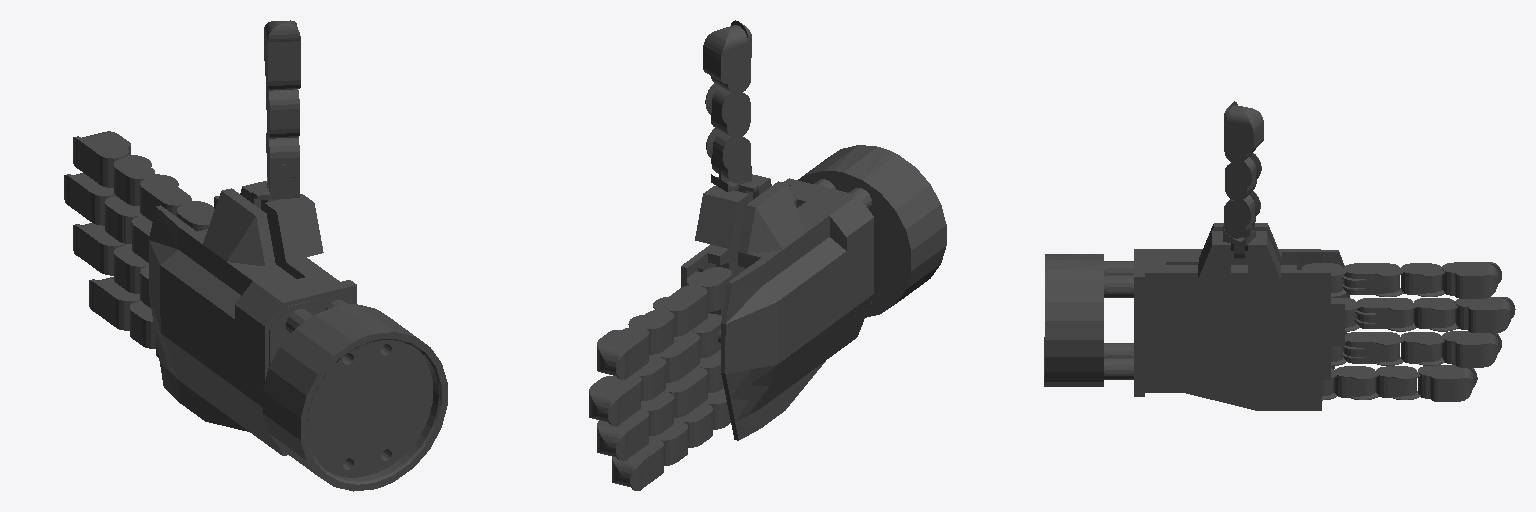
--- Render facts (derived) ---
The picture shows the robot from 3 angles, left to right: view 1: azimuth 30°, elevation 25°; view 2: azimuth 150°, elevation 25°; view 3: azimuth 270°, elevation 25°; orthographic projection.
Robot: ur5_qb — 47 links, 46 joints (40 revolute, 6 fixed); root link world; default pose: every joint at zero.
Visible links, largest first — view 1: qbhand_palm_link, qbhand_base_link, qbhand_thumb_distal_link, qbhand_thumb_knuckle_link, qbhand_index_distal_link, qbhand_little_distal_link, qbhand_ring_distal_link, qbhand_middle_distal_link, qbhand_thumb_proximal_link, qbhand_index_proximal_link, qbhand_index_middle_link, qbhand_middle_middle_link (+4 smaller); view 2: qbhand_palm_link, qbhand_base_link, qbhand_thumb_distal_link, qbhand_thumb_knuckle_link, qbhand_index_distal_link, qbhand_middle_distal_link, qbhand_ring_distal_link, qbhand_thumb_proximal_link, qbhand_little_distal_link, qbhand_index_proximal_link, qbhand_middle_proximal_link, qbhand_ring_proximal_link (+9 smaller); view 3: qbhand_palm_link, qbhand_base_link, qbhand_index_distal_link, qbhand_thumb_distal_link, qbhand_ring_distal_link, qbhand_little_distal_link, qbhand_middle_distal_link, qbhand_index_proximal_link, qbhand_middle_proximal_link, qbhand_ring_proximal_link, qbhand_thumb_knuckle_link, qbhand_little_proximal_link (+6 smaller).
Link boxes in pixels (x1,y1,x2,y2): qbhand_palm_link: (149,181,356,455); qbhand_base_link: (263,300,447,491); qbhand_thumb_distal_link: (264,20,300,90); qbhand_thumb_knuckle_link: (252,132,299,211); qbhand_index_distal_link: (73,131,130,187); qbhand_little_distal_link: (89,277,140,330); qbhand_ring_distal_link: (73,223,125,275); qbhand_middle_distal_link: (64,173,115,225); qbhand_thumb_proximal_link: (266,87,299,138); qbhand_index_proximal_link: (140,174,191,221); qbhand_index_middle_link: (114,155,154,205); qbhand_middle_middle_link: (105,196,139,243); qbhand_palm_link: (681,174,873,440); qbhand_base_link: (798,145,946,317); qbhand_thumb_distal_link: (703,20,751,94); qbhand_thumb_knuckle_link: (706,128,758,201); qbhand_index_distal_link: (597,327,648,379); qbhand_middle_distal_link: (589,374,641,426); qbhand_ring_distal_link: (597,409,648,460); qbhand_thumb_proximal_link: (705,83,750,138); qbhand_little_distal_link: (612,438,663,490); qbhand_index_proximal_link: (653,285,707,336); qbhand_middle_proximal_link: (649,332,699,382); qbhand_ring_proximal_link: (663,367,707,417); qbhand_palm_link: (1134,223,1349,410); qbhand_base_link: (1044,254,1133,386); qbhand_index_distal_link: (1442,262,1501,298); qbhand_thumb_distal_link: (1224,101,1263,163); qbhand_ring_distal_link: (1442,331,1501,367); qbhand_little_distal_link: (1418,365,1477,401); qbhand_middle_distal_link: (1455,297,1515,332); qbhand_index_proximal_link: (1342,263,1405,296); qbhand_middle_proximal_link: (1355,298,1418,331); qbhand_ring_proximal_link: (1342,332,1404,365); qbhand_thumb_knuckle_link: (1223,191,1260,258); qbhand_little_proximal_link: (1334,366,1378,399).
Bounding box of the posed robot: 0.0703 × 0.2488 × 0.1794 m (x, y, z).
21 mesh visuals loaded from 14 distinct referenced files (7 binary STL); not drawn: 7 (reference not matched to a file when rendering).

robot.urdf — ur5_qb:
<?xml version="1.0" ?>
<!-- =================================================================================== -->
<!-- |    This document was autogenerated by xacro from ur5_qb.xacro                   | -->
<!-- |    EDITING THIS FILE BY HAND IS NOT RECOMMENDED                                 | -->
<!-- =================================================================================== -->
<robot name="ur5_qb" xmlns:xacro="http://wiki.ros.org/xacro">
  <gazebo>
    <plugin filename="libgazebo_ros_control.so" name="ros_control">
      <!--robotNamespace>/</robotNamespace-->
      <!--robotSimType>gazebo_ros_control/DefaultRobotHWSim</robotSimType-->
    </plugin>
    <!--
    <plugin name="gazebo_ros_power_monitor_controller" filename="libgazebo_ros_power_monitor.so">
      <alwaysOn>true</alwaysOn>
      <updateRate>1.0</updateRate>
      <timeout>5</timeout>
      <powerStateTopic>power_state</powerStateTopic>
      <powerStateRate>10.0</powerStateRate>
      <fullChargeCapacity>87.78</fullChargeCapacity>     
      <dischargeRate>-474</dischargeRate>
      <chargeRate>525</chargeRate>
      <dischargeVoltage>15.52</dischargeVoltage>
      <chargeVoltage>16.41</chargeVoltage>
    </plugin>
-->
  </gazebo>
  <!-- measured from model -->
  <!--property name="shoulder_height" value="0.089159" /-->
  <!--property name="shoulder_offset" value="0.13585" /-->
  <!-- shoulder_offset - elbow_offset + wrist_1_length = 0.10915 -->
  <!--property name="upper_arm_length" value="0.42500" /-->
  <!--property name="elbow_offset" value="0.1197" /-->
  <!-- CAD measured -->
  <!--property name="forearm_length" value="0.39225" /-->
  <!--property name="wrist_1_length" value="0.093" /-->
  <!-- CAD measured -->
  <!--property name="wrist_2_length" value="0.09465" /-->
  <!-- In CAD this distance is 0.930, but in the spec it is 0.09465 -->
  <!--property name="wrist_3_length" value="0.0823" /-->
  <!-- manually measured -->
  <link name="base_link">
    <visual>
      <geometry>
        <mesh filename="package://ur_description/meshes/ur5/visual/base.dae"/>
      </geometry>
      <material name="LightGrey">
        <color rgba="0.7 0.7 0.7 1.0"/>
      </material>
    </visual>
    <collision>
      <geometry>
        <mesh filename="package://ur_description/meshes/ur5/collision/base.stl"/>
      </geometry>
    </collision>
    <inertial>
      <mass value="4.0"/>
      <origin rpy="0 0 0" xyz="0.0 0.0 0.0"/>
      <inertia ixx="0.00443333156" ixy="0.0" ixz="0.0" iyy="0.00443333156" iyz="0.0" izz="0.0072"/>
    </inertial>
  </link>
  <joint name="shoulder_pan_joint" type="revolute">
    <parent link="base_link"/>
    <child link="shoulder_link"/>
    <origin rpy="0.0 0.0 0.0" xyz="0.0 0.0 0.089159"/>
    <axis xyz="0 0 1"/>
    <limit effort="150.0" lower="-6.28318530718" upper="6.28318530718" velocity="3.15"/>
    <dynamics damping="0.0" friction="0.0"/>
  </joint>
  <link name="shoulder_link">
    <visual>
      <geometry>
        <mesh filename="package://ur_description/meshes/ur5/visual/shoulder.dae"/>
      </geometry>
      <material name="LightGrey">
        <color rgba="0.7 0.7 0.7 1.0"/>
      </material>
    </visual>
    <collision>
      <geometry>
        <mesh filename="package://ur_description/meshes/ur5/collision/shoulder.stl"/>
      </geometry>
    </collision>
    <inertial>
      <mass value="3.7"/>
      <origin rpy="0 0 0" xyz="0.0 0.0 0.0"/>
      <inertia ixx="0.010267495893" ixy="0.0" ixz="0.0" iyy="0.010267495893" iyz="0.0" izz="0.00666"/>
    </inertial>
  </link>
  <joint name="shoulder_lift_joint" type="revolute">
    <parent link="shoulder_link"/>
    <child link="upper_arm_link"/>
    <origin rpy="0.0 1.57079632679 0.0" xyz="0.0 0.13585 0.0"/>
    <axis xyz="0 1 0"/>
    <limit effort="150.0" lower="-6.28318530718" upper="6.28318530718" velocity="3.15"/>
    <dynamics damping="0.0" friction="0.0"/>
  </joint>
  <link name="upper_arm_link">
    <visual>
      <geometry>
        <mesh filename="package://ur_description/meshes/ur5/visual/upperarm.dae"/>
      </geometry>
      <material name="LightGrey">
        <color rgba="0.7 0.7 0.7 1.0"/>
      </material>
    </visual>
    <collision>
      <geometry>
        <mesh filename="package://ur_description/meshes/ur5/collision/upperarm.stl"/>
      </geometry>
    </collision>
    <inertial>
      <mass value="8.393"/>
      <origin rpy="0 0 0" xyz="0.0 0.0 0.28"/>
      <inertia ixx="0.22689067591" ixy="0.0" ixz="0.0" iyy="0.22689067591" iyz="0.0" izz="0.0151074"/>
    </inertial>
  </link>
  <joint name="elbow_joint" type="revolute">
    <parent link="upper_arm_link"/>
    <child link="forearm_link"/>
    <origin rpy="0.0 0.0 0.0" xyz="0.0 -0.1197 0.425"/>
    <axis xyz="0 1 0"/>
    <limit effort="150.0" lower="-3.14159265359" upper="3.14159265359" velocity="3.15"/>
    <dynamics damping="0.0" friction="0.0"/>
  </joint>
  <link name="forearm_link">
    <visual>
      <geometry>
        <mesh filename="package://ur_description/meshes/ur5/visual/forearm.dae"/>
      </geometry>
      <material name="LightGrey">
        <color rgba="0.7 0.7 0.7 1.0"/>
      </material>
    </visual>
    <collision>
      <geometry>
        <mesh filename="package://ur_description/meshes/ur5/collision/forearm.stl"/>
      </geometry>
    </collision>
    <inertial>
      <mass value="2.275"/>
      <origin rpy="0 0 0" xyz="0.0 0.0 0.196125"/>
      <inertia ixx="0.0312167910289" ixy="0.0" ixz="0.0" iyy="0.0312167910289" iyz="0.0" izz="0.004095"/>
    </inertial>
  </link>
  <joint name="wrist_1_joint" type="revolute">
    <parent link="forearm_link"/>
    <child link="wrist_1_link"/>
    <origin rpy="0.0 1.57079632679 0.0" xyz="0.0 0.0 0.39225"/>
    <axis xyz="0 1 0"/>
    <limit effort="28.0" lower="-6.28318530718" upper="6.28318530718" velocity="3.2"/>
    <dynamics damping="0.0" friction="0.0"/>
  </joint>
  <link name="wrist_1_link">
    <visual>
      <geometry>
        <mesh filename="package://ur_description/meshes/ur5/visual/wrist1.dae"/>
      </geometry>
      <material name="LightGrey">
        <color rgba="0.7 0.7 0.7 1.0"/>
      </material>
    </visual>
    <collision>
      <geometry>
        <mesh filename="package://ur_description/meshes/ur5/collision/wrist1.stl"/>
      </geometry>
    </collision>
    <inertial>
      <mass value="1.219"/>
      <origin rpy="0 0 0" xyz="0.0 0.093 0.0"/>
      <inertia ixx="0.00255989897604" ixy="0.0" ixz="0.0" iyy="0.00255989897604" iyz="0.0" izz="0.0021942"/>
    </inertial>
  </link>
  <joint name="wrist_2_joint" type="revolute">
    <parent link="wrist_1_link"/>
    <child link="wrist_2_link"/>
    <origin rpy="0.0 0.0 0.0" xyz="0.0 0.093 0.0"/>
    <axis xyz="0 0 1"/>
    <limit effort="28.0" lower="-6.28318530718" upper="6.28318530718" velocity="3.2"/>
    <dynamics damping="0.0" friction="0.0"/>
  </joint>
  <link name="wrist_2_link">
    <visual>
      <geometry>
        <mesh filename="package://ur_description/meshes/ur5/visual/wrist2.dae"/>
      </geometry>
      <material name="LightGrey">
        <color rgba="0.7 0.7 0.7 1.0"/>
      </material>
    </visual>
    <collision>
      <geometry>
        <mesh filename="package://ur_description/meshes/ur5/collision/wrist2.stl"/>
      </geometry>
    </collision>
    <inertial>
      <mass value="1.219"/>
      <origin rpy="0 0 0" xyz="0.0 0.0 0.09465"/>
      <inertia ixx="0.00255989897604" ixy="0.0" ixz="0.0" iyy="0.00255989897604" iyz="0.0" izz="0.0021942"/>
    </inertial>
  </link>
  <joint name="wrist_3_joint" type="revolute">
    <parent link="wrist_2_link"/>
    <child link="wrist_3_link"/>
    <origin rpy="0.0 0.0 0.0" xyz="0.0 0.0 0.09465"/>
    <axis xyz="0 1 0"/>
    <limit effort="28.0" lower="-6.28318530718" upper="6.28318530718" velocity="3.2"/>
    <dynamics damping="0.0" friction="0.0"/>
  </joint>
  <link name="wrist_3_link">
    <visual>
      <geometry>
        <mesh filename="package://ur_description/meshes/ur5/visual/wrist3.dae"/>
      </geometry>
      <material name="LightGrey">
        <color rgba="0.7 0.7 0.7 1.0"/>
      </material>
    </visual>
    <collision>
      <geometry>
        <mesh filename="package://ur_description/meshes/ur5/collision/wrist3.stl"/>
      </geometry>
    </collision>
    <inertial>
      <mass value="0.1879"/>
      <origin rpy="1.57079632679 0 0" xyz="0.0 0.06505 0.0"/>
      <inertia ixx="8.46958911216e-05" ixy="0.0" ixz="0.0" iyy="8.46958911216e-05" iyz="0.0" izz="0.0001321171875"/>
    </inertial>
  </link>
  <joint name="ee_fixed_joint" type="fixed">
    <parent link="wrist_3_link"/>
    <child link="ee_link"/>
    <origin rpy="0.0 0.0 1.57079632679" xyz="0.0 0.0823 0.0"/>
  </joint>
  <link name="ee_link">
    <collision>
      <geometry>
        <box size="0.01 0.01 0.01"/>
      </geometry>
      <origin rpy="0 0 0" xyz="-0.01 0 0"/>
    </collision>
  </link>
  <transmission name="shoulder_pan_trans">
    <type>transmission_interface/SimpleTransmission</type>
    <joint name="shoulder_pan_joint">
      <hardwareInterface>hardware_interface/PositionJointInterface</hardwareInterface>
    </joint>
    <actuator name="shoulder_pan_motor">
      <mechanicalReduction>1</mechanicalReduction>
    </actuator>
  </transmission>
  <transmission name="shoulder_lift_trans">
    <type>transmission_interface/SimpleTransmission</type>
    <joint name="shoulder_lift_joint">
      <hardwareInterface>hardware_interface/PositionJointInterface</hardwareInterface>
    </joint>
    <actuator name="shoulder_lift_motor">
      <mechanicalReduction>1</mechanicalReduction>
    </actuator>
  </transmission>
  <transmission name="elbow_trans">
    <type>transmission_interface/SimpleTransmission</type>
    <joint name="elbow_joint">
      <hardwareInterface>hardware_interface/PositionJointInterface</hardwareInterface>
    </joint>
    <actuator name="elbow_motor">
      <mechanicalReduction>1</mechanicalReduction>
    </actuator>
  </transmission>
  <transmission name="wrist_1_trans">
    <type>transmission_interface/SimpleTransmission</type>
    <joint name="wrist_1_joint">
      <hardwareInterface>hardware_interface/PositionJointInterface</hardwareInterface>
    </joint>
    <actuator name="wrist_1_motor">
      <mechanicalReduction>1</mechanicalReduction>
    </actuator>
  </transmission>
  <transmission name="wrist_2_trans">
    <type>transmission_interface/SimpleTransmission</type>
    <joint name="wrist_2_joint">
      <hardwareInterface>hardware_interface/PositionJointInterface</hardwareInterface>
    </joint>
    <actuator name="wrist_2_motor">
      <mechanicalReduction>1</mechanicalReduction>
    </actuator>
  </transmission>
  <transmission name="wrist_3_trans">
    <type>transmission_interface/SimpleTransmission</type>
    <joint name="wrist_3_joint">
      <hardwareInterface>hardware_interface/PositionJointInterface</hardwareInterface>
    </joint>
    <actuator name="wrist_3_motor">
      <mechanicalReduction>1</mechanicalReduction>
    </actuator>
  </transmission>
  <gazebo reference="shoulder_link">
    <selfCollide>true</selfCollide>
  </gazebo>
  <gazebo reference="upper_arm_link">
    <selfCollide>true</selfCollide>
  </gazebo>
  <gazebo reference="forearm_link">
    <selfCollide>true</selfCollide>
  </gazebo>
  <gazebo reference="wrist_1_link">
    <selfCollide>true</selfCollide>
  </gazebo>
  <gazebo reference="wrist_3_link">
    <selfCollide>true</selfCollide>
  </gazebo>
  <gazebo reference="wrist_2_link">
    <selfCollide>true</selfCollide>
  </gazebo>
  <gazebo reference="ee_link">
    <selfCollide>true</selfCollide>
  </gazebo>
  <!-- ROS base_link to UR 'Base' Coordinates transform -->
  <link name="base"/>
  <joint name="base_link-base_fixed_joint" type="fixed">
    <!-- NOTE: this rotation is only needed as long as base_link itself is
                 not corrected wrt the real robot (ie: rotated over 180
                 degrees)
      -->
    <origin rpy="0 0 -3.14159265359" xyz="0 0 0"/>
    <parent link="base_link"/>
    <child link="base"/>
  </joint>
  <!-- Frame coincident with all-zeros TCP on UR controller -->
  <link name="tool0"/>
  <joint name="wrist_3_link-tool0_fixed_joint" type="fixed">
    <origin rpy="-1.57079632679 0 0" xyz="0 0.0823 0"/>
    <parent link="wrist_3_link"/>
    <child link="tool0"/>
  </joint>
  <material name="qbhand/optional">
    <color rgba="0.0 0.5 0.8 1.0"/>
  </material>
  <material name="qbhand/base">
    <color rgba="0.35 0.35 0.35 1.0"/>
  </material>
  <material name="qbhand/palm">
    <color rgba="0.35 0.35 0.35 1.0"/>
  </material>
  <material name="qbhand/knuckle">
    <color rgba="0.35 0.35 0.35 1.0"/>
  </material>
  <material name="qbhand/proximal">
    <color rgba="0.35 0.35 0.35 1.0"/>
  </material>
  <material name="qbhand/middle">
    <color rgba="0.35 0.35 0.35 1.0"/>
  </material>
  <material name="qbhand/distal">
    <color rgba="0.35 0.35 0.35 1.0"/>
  </material>
  <material name="qbhand/default">
    <color rgba="0.35 0.35 0.35 1.0"/>
  </material>
  <link name="world"/>
  <joint name="qbhand_base_fixed_joint" type="fixed">
    <origin rpy="0 1.57 0" xyz="0 0 0"/>
    <parent link="ee_link"/>
    <child link="qbhand_base_link"/>
  </joint>
  <link name="qbhand_base_link">
    <inertial>
      <mass value="0.15"/>
      <origin xyz="0 0 0.0015"/>
      <inertia ixx="6e-05" ixy="0" ixz="0" iyy="6e-05" iyz="0" izz="9e-05"/>
    </inertial>
    <visual>
      <origin rpy="0 0 0" xyz="0 0 0"/>
      <geometry>
        <mesh filename="package://qb_hand_description/meshes/flange_iso_04.stl" scale="0.001 0.001 0.001"/>
      </geometry>
      <material name="qbhand/base"/>
    </visual>
    <collision>
      <origin rpy="0 0 0" xyz="0 0 0"/>
      <geometry>
        <mesh filename="package://qb_hand_description/meshes/flange_iso_04.stl" scale="0.001 0.001 0.001"/>
      </geometry>
    </collision>
  </link>
  <joint name="qbhand_palm_fixed_joint" type="fixed">
    <origin rpy="1.57 0 3.14" xyz="0.0045 0.0145 0.144"/>
    <parent link="qbhand_base_link"/>
    <child link="qbhand_palm_link"/>
  </joint>
  <link name="qbhand_palm_link">
    <inertial>
      <mass value="0.36"/>
      <origin xyz="0.0 0.02 0.05"/>
      <inertia ixx="0.00045" ixy="0.0" ixz="0.0" iyy="0.0006" iyz="0.0" izz="0.00025"/>
    </inertial>
    <visual>
      <origin rpy="0 0 0" xyz="0 0 0"/>
      <geometry>
        <mesh filename="package://qb_hand_description/meshes/palm_pinch_l.stl" scale="0.001 0.001 0.001"/>
      </geometry>
      <material name="qbhand/palm"/>
    </visual>
    <collision>
      <origin rpy="0 0 0" xyz="0 0 0"/>
      <geometry>
        <mesh filename="package://qb_hand_description/meshes/palm_pinch_l.stl" scale="0.001 0.001 0.001"/>
      </geometry>
    </collision>
  </link>
  <joint name="qbhand_synergy_joint" type="revolute">
    <origin rpy="0 0 0" xyz="0 0 0"/>
    <parent link="qbhand_palm_link"/>
    <child link="qbhand_tendon_virtual_link"/>
    <axis xyz="0 0 1"/>
    <dynamics damping="0.0" friction="0.0"/>
    <limit effort="100" lower="0.0" upper="1.0" velocity="100"/>
  </joint>
  <link name="qbhand_tendon_virtual_link">
    <inertial>
      <origin rpy="0 0 0" xyz="0 0 0"/>
      <mass value="0.01"/>
      <inertia ixx="1e-08" ixy="0.0" ixz="0.0" iyy="1e-08" iyz="0.0" izz="1e-08"/>
    </inertial>
  </link>
  <joint name="qbhand_thumb_knuckle_joint" type="revolute">
    <origin rpy="1.57 3.14 0" xyz="-0.0435 -0.0435 -0.002"/>
    <parent link="qbhand_palm_link"/>
    <child link="qbhand_thumb_knuckle_link"/>
    <axis xyz="0 0 -1"/>
    <dynamics damping="0.0" friction="0.0"/>
    <limit effort="100" lower="0.0" upper="1.571" velocity="100"/>
    <mimic joint="qbhand_synergy_joint" multiplier="2.542"/>
  </joint>
  <link name="qbhand_thumb_knuckle_link">
    <inertial>
      <mass value="0.01"/>
      <origin xyz="0 0 0"/>
      <inertia ixx="1e-06" ixy="0.0" ixz="0.0" iyy="1e-06" iyz="0.0" izz="1e-06"/>
    </inertial>
    <visual>
      <origin rpy="0 0 0" xyz="0 0 0"/>
      <geometry>
        <mesh filename="package://qb_hand_description/meshes/ph_thumb_l.stl" scale="0.001 0.001 0.001"/>
      </geometry>
      <material name="qbhand/knuckle"/>
    </visual>
    <collision>
      <origin rpy="0 0 0" xyz="0 0 0"/>
      <geometry>
        <mesh filename="package://qb_hand_description/meshes/ph_thumb_l.stl" scale="0.001 0.001 0.001"/>
      </geometry>
    </collision>
  </link>
  <joint name="qbhand_thumb_proximal_joint" type="revolute">
    <origin rpy="1.15 0.0 0.0" xyz="0.0255 -0.004 0.0025"/>
    <parent link="qbhand_thumb_knuckle_link"/>
    <child link="qbhand_thumb_proximal_virtual_link"/>
    <axis xyz="0 0 -1"/>
    <dynamics damping="0.0" friction="0.0"/>
    <limit effort="100" lower="0.0" upper="0.785" velocity="100"/>
    <mimic joint="qbhand_synergy_joint" multiplier="0.785"/>
  </joint>
  <link name="qbhand_thumb_proximal_virtual_link">
    <inertial>
      <origin rpy="0 0 0" xyz="0 0 0"/>
      <mass value="0.01"/>
      <inertia ixx="1e-08" ixy="0.0" ixz="0.0" iyy="1e-08" iyz="0.0" izz="1e-08"/>
    </inertial>
  </link>
  <joint name="qbhand_thumb_proximal_virtual_joint" type="revolute">
    <origin rpy="0 0 0" xyz="0.013 0 0"/>
    <parent link="qbhand_thumb_proximal_virtual_link"/>
    <child link="qbhand_thumb_proximal_link"/>
    <axis xyz="0 0 -1"/>
    <dynamics damping="0.0" friction="0.0"/>
    <limit effort="100" lower="0.0" upper="0.785" velocity="100"/>
    <mimic joint="qbhand_thumb_proximal_joint" multiplier="1.0"/>
  </joint>
  <link name="qbhand_thumb_proximal_link">
    <inertial>
      <mass value="0.01"/>
      <origin xyz="0 0 0"/>
      <inertia ixx="1e-06" ixy="0.0" ixz="0.0" iyy="1e-06" iyz="0.0" izz="1e-06"/>
    </inertial>
    <visual>
      <origin rpy="0 0 0" xyz="0 0 0"/>
      <geometry>
        <mesh filename="package://qb_hand_description/meshes/ph_small.stl" scale="0.001 0.001 0.001"/>
      </geometry>
      <material name="qbhand/proximal"/>
    </visual>
    <collision>
      <origin rpy="0 0 0" xyz="0 0 0"/>
      <geometry>
        <mesh filename="package://qb_hand_description/meshes/ph_small.stl" scale="0.001 0.001 0.001"/>
      </geometry>
    </collision>
  </link>
  <joint name="qbhand_thumb_distal_joint" type="revolute">
    <origin rpy="0 0 0" xyz="0.009 0 0"/>
    <parent link="qbhand_thumb_proximal_link"/>
    <child link="qbhand_thumb_distal_virtual_link"/>
    <axis xyz="0 0 -1"/>
    <dynamics damping="0.0" friction="0.0"/>
    <limit effort="100" lower="0.0" upper="0.785" velocity="100"/>
    <mimic joint="qbhand_synergy_joint" multiplier="0.785"/>
  </joint>
  <link name="qbhand_thumb_distal_virtual_link">
    <inertial>
      <origin rpy="0 0 0" xyz="0 0 0"/>
      <mass value="0.01"/>
      <inertia ixx="1e-08" ixy="0.0" ixz="0.0" iyy="1e-08" iyz="0.0" izz="1e-08"/>
    </inertial>
  </link>
  <joint name="qbhand_thumb_distal_virtual_joint" type="revolute">
    <origin rpy="0 0 0" xyz="0.013 0 0"/>
    <parent link="qbhand_thumb_distal_virtual_link"/>
    <child link="qbhand_thumb_distal_link"/>
    <axis xyz="0 0 -1"/>
    <dynamics damping="0.0" friction="0.0"/>
    <limit effort="100" lower="0.0" upper="0.785" velocity="100"/>
    <mimic joint="qbhand_thumb_distal_joint" multiplier="1.0"/>
  </joint>
  <link name="qbhand_thumb_distal_link">
    <inertial>
      <mass value="0.01"/>
      <origin xyz="0 0 0"/>
      <inertia ixx="1e-06" ixy="0.0" ixz="0.0" iyy="1e-06" iyz="0.0" izz="1e-06"/>
    </inertial>
    <visual>
      <origin rpy="0 0 0" xyz="0 0 0"/>
      <geometry>
        <mesh filename="package://qb_hand_description/meshes/ph_distal.stl" scale="0.001 0.001 0.001"/>
      </geometry>
      <material name="qbhand/distal"/>
    </visual>
    <collision>
      <origin rpy="0 0 0" xyz="0 0 0"/>
      <geometry>
        <mesh filename="package://qb_hand_description/meshes/ph_distal.stl" scale="0.001 0.001 0.001"/>
      </geometry>
    </collision>
  </link>
  <joint name="qbhand_index_knuckle_joint" type="revolute">
    <origin rpy="0 3.14 0" xyz="-0.02 -0.007 -0.014"/>
    <parent link="qbhand_palm_link"/>
    <child link="qbhand_index_knuckle_link"/>
    <axis xyz="0 0 -1"/>
    <dynamics damping="0.0" friction="0.0"/>
    <limit effort="100" lower="-0.524" upper="0.524" velocity="100"/>
    <mimic joint="qbhand_synergy_joint" multiplier="0.2"/>
  </joint>
  <link name="qbhand_index_knuckle_link">
    <inertial>
      <mass value="0.01"/>
      <origin xyz="0 0 0"/>
      <inertia ixx="1e-06" ixy="0.0" ixz="0.0" iyy="1e-06" iyz="0.0" izz="1e-06"/>
    </inertial>
    <visual>
      <origin rpy="0 0 0" xyz="0 0 0"/>
      <geometry>
        <mesh filename="package://qb_hand_description/meshes/ph_knuckle.stl" scale="0.001 0.001 0.001"/>
      </geometry>
      <material name="qbhand/knuckle"/>
    </visual>
    <collision>
      <origin rpy="0 0 0" xyz="0 0 0"/>
      <geometry>
        <mesh filename="package://qb_hand_description/meshes/ph_knuckle.stl" scale="0.001 0.001 0.001"/>
      </geometry>
    </collision>
  </link>
  <joint name="qbhand_index_proximal_joint" type="revolute">
    <origin rpy="1.57 0 1.57" xyz="0 0.009 0"/>
    <parent link="qbhand_index_knuckle_link"/>
    <child link="qbhand_index_proximal_virtual_link"/>
    <axis xyz="0 0 -1"/>
    <dynamics damping="0.0" friction="0.0"/>
    <limit effort="100" lower="0.0" upper="0.785" velocity="100"/>
    <mimic joint="qbhand_synergy_joint" multiplier="0.785"/>
  </joint>
  <link name="qbhand_index_proximal_virtual_link">
    <inertial>
      <origin rpy="0 0 0" xyz="0 0 0"/>
      <mass value="0.01"/>
      <inertia ixx="1e-08" ixy="0.0" ixz="0.0" iyy="1e-08" iyz="0.0" izz="1e-08"/>
    </inertial>
  </link>
  <joint name="qbhand_index_proximal_virtual_joint" type="revolute">
    <origin rpy="0 0 0" xyz="0.013 0 0"/>
    <parent link="qbhand_index_proximal_virtual_link"/>
    <child link="qbhand_index_proximal_link"/>
    <axis xyz="0 0 -1"/>
    <dynamics damping="0.0" friction="0.0"/>
    <limit effort="100" lower="0.0" upper="0.785" velocity="100"/>
    <mimic joint="qbhand_index_proximal_joint" multiplier="1.0"/>
  </joint>
  <link name="qbhand_index_proximal_link">
    <inertial>
      <mass value="0.01"/>
      <origin xyz="0 0 0"/>
      <inertia ixx="1e-06" ixy="0.0" ixz="0.0" iyy="1e-06" iyz="0.0" izz="1e-06"/>
    </inertial>
    <visual>
      <origin rpy="0 0 0" xyz="0 0 0"/>
      <geometry>
        <mesh filename="package://qb_hand_description/meshes/ph_medium.stl" scale="0.001 0.001 0.001"/>
      </geometry>
      <material name="qbhand/proximal"/>
    </visual>
    <collision>
      <origin rpy="0 0 0" xyz="0 0 0"/>
      <geometry>
        <mesh filename="package://qb_hand_description/meshes/ph_medium.stl" scale="0.001 0.001 0.001"/>
      </geometry>
    </collision>
  </link>
  <joint name="qbhand_index_middle_joint" type="revolute">
    <origin rpy="0 0 0" xyz="0.017 0 0"/>
    <parent link="qbhand_index_proximal_link"/>
    <child link="qbhand_index_middle_virtual_link"/>
    <axis xyz="0 0 -1"/>
    <dynamics damping="0.0" friction="0.0"/>
    <limit effort="100" lower="0.0" upper="0.785" velocity="100"/>
    <mimic joint="qbhand_synergy_joint" multiplier="0.785"/>
  </joint>
  <link name="qbhand_index_middle_virtual_link">
    <inertial>
      <origin rpy="0 0 0" xyz="0 0 0"/>
      <mass value="0.01"/>
      <inertia ixx="1e-08" ixy="0.0" ixz="0.0" iyy="1e-08" iyz="0.0" izz="1e-08"/>
    </inertial>
  </link>
  <joint name="qbhand_index_middle_virtual_joint" type="revolute">
    <origin rpy="0 0 0" xyz="0.013 0 0"/>
    <parent link="qbhand_index_middle_virtual_link"/>
    <child link="qbhand_index_middle_link"/>
    <axis xyz="0 0 -1"/>
    <dynamics damping="0.0" friction="0.0"/>
    <limit effort="100" lower="0.0" upper="0.785" velocity="100"/>
    <mimic joint="qbhand_index_middle_joint" multiplier="1.0"/>
  </joint>
  <link name="qbhand_index_middle_link">
    <inertial>
      <mass value="0.01"/>
      <origin xyz="0 0 0"/>
      <inertia ixx="1e-06" ixy="0.0" ixz="0.0" iyy="1e-06" iyz="0.0" izz="1e-06"/>
    </inertial>
    <visual>
      <origin rpy="0 0 0" xyz="0 0 0"/>
      <geometry>
        <mesh filename="package://qb_hand_description/meshes/ph_small.stl" scale="0.001 0.001 0.001"/>
      </geometry>
      <material name="qbhand/middle"/>
    </visual>
    <collision>
      <origin rpy="0 0 0" xyz="0 0 0"/>
      <geometry>
        <mesh filename="package://qb_hand_description/meshes/ph_small.stl" scale="0.001 0.001 0.001"/>
      </geometry>
    </collision>
  </link>
  <joint name="qbhand_index_distal_joint" type="revolute">
    <origin rpy="0 0 0" xyz="0.009 0 0"/>
    <parent link="qbhand_index_middle_link"/>
    <child link="qbhand_index_distal_virtual_link"/>
    <axis xyz="0 0 -1"/>
    <dynamics damping="0.0" friction="0.0"/>
    <limit effort="100" lower="0.0" upper="0.785" velocity="100"/>
    <mimic joint="qbhand_synergy_joint" multiplier="0.785"/>
  </joint>
  <link name="qbhand_index_distal_virtual_link">
    <inertial>
      <origin rpy="0 0 0" xyz="0 0 0"/>
      <mass value="0.01"/>
      <inertia ixx="1e-08" ixy="0.0" ixz="0.0" iyy="1e-08" iyz="0.0" izz="1e-08"/>
    </inertial>
  </link>
  <joint name="qbhand_index_distal_virtual_joint" type="revolute">
    <origin rpy="0 0 0" xyz="0.013 0 0"/>
    <parent link="qbhand_index_distal_virtual_link"/>
    <child link="qbhand_index_distal_link"/>
    <axis xyz="0 0 -1"/>
    <dynamics damping="0.0" friction="0.0"/>
    <limit effort="100" lower="0.0" upper="0.785" velocity="100"/>
    <mimic joint="qbhand_index_distal_joint" multiplier="1.0"/>
  </joint>
  <link name="qbhand_index_distal_link">
    <inertial>
      <mass value="0.01"/>
      <origin xyz="0 0 0"/>
      <inertia ixx="1e-06" ixy="0.0" ixz="0.0" iyy="1e-06" iyz="0.0" izz="1e-06"/>
    </inertial>
    <visual>
      <origin rpy="0 0 0" xyz="0 0 0"/>
      <geometry>
        <mesh filename="package://qb_hand_description/meshes/ph_distal.stl" scale="0.001 0.001 0.001"/>
      </geometry>
      <material name="qbhand/distal"/>
    </visual>
    <collision>
      <origin rpy="0 0 0" xyz="0 0 0"/>
      <geometry>
        <mesh filename="package://qb_hand_description/meshes/ph_distal.stl" scale="0.001 0.001 0.001"/>
      </geometry>
    </collision>
  </link>
  <joint name="qbhand_middle_knuckle_joint" type="revolute">
    <origin rpy="0 3.14 0" xyz="0 0 -0.014"/>
    <parent link="qbhand_palm_link"/>
    <child link="qbhand_middle_knuckle_link"/>
    <axis xyz="0 0 -1"/>
    <dynamics damping="0.0" friction="0.0"/>
    <limit effort="100" lower="-0.524" upper="0.524" velocity="100"/>
    <mimic joint="qbhand_synergy_joint" multiplier="0.0"/>
  </joint>
  <link name="qbhand_middle_knuckle_link">
    <inertial>
      <mass value="0.01"/>
      <origin xyz="0 0 0"/>
      <inertia ixx="1e-06" ixy="0.0" ixz="0.0" iyy="1e-06" iyz="0.0" izz="1e-06"/>
    </inertial>
    <visual>
      <origin rpy="0 0 0" xyz="0 0 0"/>
      <geometry>
        <mesh filename="package://qb_hand_description/meshes/ph_knuckle.stl" scale="0.001 0.001 0.001"/>
      </geometry>
      <material name="qbhand/knuckle"/>
    </visual>
    <collision>
      <origin rpy="0 0 0" xyz="0 0 0"/>
      <geometry>
        <mesh filename="package://qb_hand_description/meshes/ph_knuckle.stl" scale="0.001 0.001 0.001"/>
      </geometry>
    </collision>
  </link>
  <joint name="qbhand_middle_proximal_joint" type="revolute">
    <origin rpy="1.57 0 1.57" xyz="0 0.009 0"/>
    <parent link="qbhand_middle_knuckle_link"/>
    <child link="qbhand_middle_proximal_virtual_link"/>
    <axis xyz="0 0 -1"/>
    <dynamics damping="0.0" friction="0.0"/>
    <limit effort="100" lower="0.0" upper="0.785" velocity="100"/>
    <mimic joint="qbhand_synergy_joint" multiplier="0.785"/>
  </joint>
  <link name="qbhand_middle_proximal_virtual_link">
    <inertial>
      <origin rpy="0 0 0" xyz="0 0 0"/>
      <mass value="0.01"/>
      <inertia ixx="1e-08" ixy="0.0" ixz="0.0" iyy="1e-08" iyz="0.0" izz="1e-08"/>
    </inertial>
  </link>
  <joint name="qbhand_middle_proximal_virtual_joint" type="revolute">
    <origin rpy="0 0 0" xyz="0.013 0 0"/>
    <parent link="qbhand_middle_proximal_virtual_link"/>
    <child link="qbhand_middle_proximal_link"/>
    <axis xyz="0 0 -1"/>
    <dynamics damping="0.0" friction="0.0"/>
    <limit effort="100" lower="0.0" upper="0.785" velocity="100"/>
    <mimic joint="qbhand_middle_proximal_joint" multiplier="1.0"/>
  </joint>
  <link name="qbhand_middle_proximal_link">
    <inertial>
      <mass value="0.01"/>
      <origin xyz="0 0 0"/>
      <inertia ixx="1e-06" ixy="0.0" ixz="0.0" iyy="1e-06" iyz="0.0" izz="1e-06"/>
    </inertial>
    <visual>
      <origin rpy="0 0 0" xyz="0 0 0"/>
      <geometry>
        <mesh filename="package://qb_hand_description/meshes/ph_medium.stl" scale="0.001 0.001 0.001"/>
      </geometry>
      <material name="qbhand/proximal"/>
    </visual>
    <collision>
      <origin rpy="0 0 0" xyz="0 0 0"/>
      <geometry>
        <mesh filename="package://qb_hand_description/meshes/ph_medium.stl" scale="0.001 0.001 0.001"/>
      </geometry>
    </collision>
  </link>
  <joint name="qbhand_middle_middle_joint" type="revolute">
    <origin rpy="0 0 0" xyz="0.017 0 0"/>
    <parent link="qbhand_middle_proximal_link"/>
    <child link="qbhand_middle_middle_virtual_link"/>
    <axis xyz="0 0 -1"/>
    <dynamics damping="0.0" friction="0.0"/>
    <limit effort="100" lower="0.0" upper="0.785" velocity="100"/>
    <mimic joint="qbhand_synergy_joint" multiplier="0.785"/>
  </joint>
  <link name="qbhand_middle_middle_virtual_link">
    <inertial>
      <origin rpy="0 0 0" xyz="0 0 0"/>
      <mass value="0.01"/>
      <inertia ixx="1e-08" ixy="0.0" ixz="0.0" iyy="1e-08" iyz="0.0" izz="1e-08"/>
    </inertial>
  </link>
  <joint name="qbhand_middle_middle_virtual_joint" type="revolute">
    <origin rpy="0 0 0" xyz="0.013 0 0"/>
    <parent link="qbhand_middle_middle_virtual_link"/>
    <child link="qbhand_middle_middle_link"/>
    <axis xyz="0 0 -1"/>
    <dynamics damping="0.0" friction="0.0"/>
    <limit effort="100" lower="0.0" upper="0.785" velocity="100"/>
    <mimic joint="qbhand_middle_middle_joint" multiplier="1.0"/>
  </joint>
  <link name="qbhand_middle_middle_link">
    <inertial>
      <mass value="0.01"/>
      <origin xyz="0 0 0"/>
      <inertia ixx="1e-06" ixy="0.0" ixz="0.0" iyy="1e-06" iyz="0.0" izz="1e-06"/>
    </inertial>
    <visual>
      <origin rpy="0 0 0" xyz="0 0 0"/>
      <geometry>
        <mesh filename="package://qb_hand_description/meshes/ph_small.stl" scale="0.001 0.001 0.001"/>
      </geometry>
      <material name="qbhand/middle"/>
    </visual>
    <collision>
      <origin rpy="0 0 0" xyz="0 0 0"/>
      <geometry>
        <mesh filename="package://qb_hand_description/meshes/ph_small.stl" scale="0.001 0.001 0.001"/>
      </geometry>
    </collision>
  </link>
  <joint name="qbhand_middle_distal_joint" type="revolute">
    <origin rpy="0 0 0" xyz="0.009 0 0"/>
    <parent link="qbhand_middle_middle_link"/>
    <child link="qbhand_middle_distal_virtual_link"/>
    <axis xyz="0 0 -1"/>
    <dynamics damping="0.0" friction="0.0"/>
    <limit effort="100" lower="0.0" upper="0.785" velocity="100"/>
    <mimic joint="qbhand_synergy_joint" multiplier="0.785"/>
  </joint>
  <link name="qbhand_middle_distal_virtual_link">
    <inertial>
      <origin rpy="0 0 0" xyz="0 0 0"/>
      <mass value="0.01"/>
      <inertia ixx="1e-08" ixy="0.0" ixz="0.0" iyy="1e-08" iyz="0.0" izz="1e-08"/>
    </inertial>
  </link>
  <joint name="qbhand_middle_distal_virtual_joint" type="revolute">
    <origin rpy="0 0 0" xyz="0.013 0 0"/>
    <parent link="qbhand_middle_distal_virtual_link"/>
    <child link="qbhand_middle_distal_link"/>
    <axis xyz="0 0 -1"/>
    <dynamics damping="0.0" friction="0.0"/>
    <limit effort="100" lower="0.0" upper="0.785" velocity="100"/>
    <mimic joint="qbhand_middle_distal_joint" multiplier="1.0"/>
  </joint>
  <link name="qbhand_middle_distal_link">
    <inertial>
      <mass value="0.01"/>
      <origin xyz="0 0 0"/>
      <inertia ixx="1e-06" ixy="0.0" ixz="0.0" iyy="1e-06" iyz="0.0" izz="1e-06"/>
    </inertial>
    <visual>
      <origin rpy="0 0 0" xyz="0 0 0"/>
      <geometry>
        <mesh filename="package://qb_hand_description/meshes/ph_distal.stl" scale="0.001 0.001 0.001"/>
      </geometry>
      <material name="qbhand/distal"/>
    </visual>
    <collision>
      <origin rpy="0 0 0" xyz="0 0 0"/>
      <geometry>
        <mesh filename="package://qb_hand_description/meshes/ph_distal.stl" scale="0.001 0.001 0.001"/>
      </geometry>
    </collision>
  </link>
  <joint name="qbhand_ring_knuckle_joint" type="revolute">
    <origin rpy="0 3.14 0" xyz="0.02 -0.007 -0.014"/>
    <parent link="qbhand_palm_link"/>
    <child link="qbhand_ring_knuckle_link"/>
    <axis xyz="0 0 -1"/>
    <dynamics damping="0.0" friction="0.0"/>
    <limit effort="100" lower="-0.524" upper="0.524" velocity="100"/>
    <mimic joint="qbhand_synergy_joint" multiplier="-0.2"/>
  </joint>
  <link name="qbhand_ring_knuckle_link">
    <inertial>
      <mass value="0.01"/>
      <origin xyz="0 0 0"/>
      <inertia ixx="1e-06" ixy="0.0" ixz="0.0" iyy="1e-06" iyz="0.0" izz="1e-06"/>
    </inertial>
    <visual>
      <origin rpy="0 0 0" xyz="0 0 0"/>
      <geometry>
        <mesh filename="package://qb_hand_description/meshes/ph_knuckle.stl" scale="0.001 0.001 0.001"/>
      </geometry>
      <material name="qbhand/knuckle"/>
    </visual>
    <collision>
      <origin rpy="0 0 0" xyz="0 0 0"/>
      <geometry>
        <mesh filename="package://qb_hand_description/meshes/ph_knuckle.stl" scale="0.001 0.001 0.001"/>
      </geometry>
    </collision>
  </link>
  <joint name="qbhand_ring_proximal_joint" type="revolute">
    <origin rpy="1.57 0 1.57" xyz="0 0.009 0"/>
    <parent link="qbhand_ring_knuckle_link"/>
    <child link="qbhand_ring_proximal_virtual_link"/>
    <axis xyz="0 0 -1"/>
    <dynamics damping="0.0" friction="0.0"/>
    <limit effort="100" lower="0.0" upper="0.785" velocity="100"/>
    <mimic joint="qbhand_synergy_joint" multiplier="0.785"/>
  </joint>
  <link name="qbhand_ring_proximal_virtual_link">
    <inertial>
      <origin rpy="0 0 0" xyz="0 0 0"/>
      <mass value="0.01"/>
      <inertia ixx="1e-08" ixy="0.0" ixz="0.0" iyy="1e-08" iyz="0.0" izz="1e-08"/>
    </inertial>
  </link>
  <joint name="qbhand_ring_proximal_virtual_joint" type="revolute">
    <origin rpy="0 0 0" xyz="0.013 0 0"/>
    <parent link="qbhand_ring_proximal_virtual_link"/>
    <child link="qbhand_ring_proximal_link"/>
    <axis xyz="0 0 -1"/>
    <dynamics damping="0.0" friction="0.0"/>
    <limit effort="100" lower="0.0" upper="0.785" velocity="100"/>
    <mimic joint="qbhand_ring_proximal_joint" multiplier="1.0"/>
  </joint>
  <link name="qbhand_ring_proximal_link">
    <inertial>
      <mass value="0.01"/>
      <origin xyz="0 0 0"/>
      <inertia ixx="1e-06" ixy="0.0" ixz="0.0" iyy="1e-06" iyz="0.0" izz="1e-06"/>
    </inertial>
    <visual>
      <origin rpy="0 0 0" xyz="0 0 0"/>
      <geometry>
        <mesh filename="package://qb_hand_description/meshes/ph_medium.stl" scale="0.001 0.001 0.001"/>
      </geometry>
      <material name="qbhand/proximal"/>
    </visual>
    <collision>
      <origin rpy="0 0 0" xyz="0 0 0"/>
      <geometry>
        <mesh filename="package://qb_hand_description/meshes/ph_medium.stl" scale="0.001 0.001 0.001"/>
      </geometry>
    </collision>
  </link>
  <joint name="qbhand_ring_middle_joint" type="revolute">
    <origin rpy="0 0 0" xyz="0.017 0 0"/>
    <parent link="qbhand_ring_proximal_link"/>
    <child link="qbhand_ring_middle_virtual_link"/>
    <axis xyz="0 0 -1"/>
    <dynamics damping="0.0" friction="0.0"/>
    <limit effort="100" lower="0.0" upper="0.785" velocity="100"/>
    <mimic joint="qbhand_synergy_joint" multiplier="0.785"/>
  </joint>
  <link name="qbhand_ring_middle_virtual_link">
    <inertial>
      <origin rpy="0 0 0" xyz="0 0 0"/>
      <mass value="0.01"/>
      <inertia ixx="1e-08" ixy="0.0" ixz="0.0" iyy="1e-08" iyz="0.0" izz="1e-08"/>
    </inertial>
  </link>
  <joint name="qbhand_ring_middle_virtual_joint" type="revolute">
    <origin rpy="0 0 0" xyz="0.013 0 0"/>
    <parent link="qbhand_ring_middle_virtual_link"/>
    <child link="qbhand_ring_middle_link"/>
    <axis xyz="0 0 -1"/>
    <dynamics damping="0.0" friction="0.0"/>
    <limit effort="100" lower="0.0" upper="0.785" velocity="100"/>
    <mimic joint="qbhand_ring_middle_joint" multiplier="1.0"/>
  </joint>
  <link name="qbhand_ring_middle_link">
    <inertial>
      <mass value="0.01"/>
      <origin xyz="0 0 0"/>
      <inertia ixx="1e-06" ixy="0.0" ixz="0.0" iyy="1e-06" iyz="0.0" izz="1e-06"/>
    </inertial>
    <visual>
      <origin rpy="0 0 0" xyz="0 0 0"/>
      <geometry>
        <mesh filename="package://qb_hand_description/meshes/ph_small.stl" scale="0.001 0.001 0.001"/>
      </geometry>
      <material name="qbhand/middle"/>
    </visual>
    <collision>
      <origin rpy="0 0 0" xyz="0 0 0"/>
      <geometry>
        <mesh filename="package://qb_hand_description/meshes/ph_small.stl" scale="0.001 0.001 0.001"/>
      </geometry>
    </collision>
  </link>
  <joint name="qbhand_ring_distal_joint" type="revolute">
    <origin rpy="0 0 0" xyz="0.009 0 0"/>
    <parent link="qbhand_ring_middle_link"/>
    <child link="qbhand_ring_distal_virtual_link"/>
    <axis xyz="0 0 -1"/>
    <dynamics damping="0.0" friction="0.0"/>
    <limit effort="100" lower="0.0" upper="0.785" velocity="100"/>
    <mimic joint="qbhand_synergy_joint" multiplier="0.785"/>
  </joint>
  <link name="qbhand_ring_distal_virtual_link">
    <inertial>
      <origin rpy="0 0 0" xyz="0 0 0"/>
      <mass value="0.01"/>
      <inertia ixx="1e-08" ixy="0.0" ixz="0.0" iyy="1e-08" iyz="0.0" izz="1e-08"/>
    </inertial>
  </link>
  <joint name="qbhand_ring_distal_virtual_joint" type="revolute">
    <origin rpy="0 0 0" xyz="0.013 0 0"/>
    <parent link="qbhand_ring_distal_virtual_link"/>
    <child link="qbhand_ring_distal_link"/>
    <axis xyz="0 0 -1"/>
    <dynamics damping="0.0" friction="0.0"/>
    <limit effort="100" lower="0.0" upper="0.785" velocity="100"/>
    <mimic joint="qbhand_ring_distal_joint" multiplier="1.0"/>
  </joint>
  <link name="qbhand_ring_distal_link">
    <inertial>
      <mass value="0.01"/>
      <origin xyz="0 0 0"/>
      <inertia ixx="1e-06" ixy="0.0" ixz="0.0" iyy="1e-06" iyz="0.0" izz="1e-06"/>
    </inertial>
    <visual>
      <origin rpy="0 0 0" xyz="0 0 0"/>
      <geometry>
        <mesh filename="package://qb_hand_description/meshes/ph_distal.stl" scale="0.001 0.001 0.001"/>
      </geometry>
      <material name="qbhand/distal"/>
    </visual>
    <collision>
      <origin rpy="0 0 0" xyz="0 0 0"/>
      <geometry>
        <mesh filename="package://qb_hand_description/meshes/ph_distal.stl" scale="0.001 0.001 0.001"/>
      </geometry>
    </collision>
  </link>
  <joint name="qbhand_little_knuckle_joint" type="revolute">
    <origin rpy="0 3.14 0" xyz="0.04 -0.012 -0.014"/>
    <parent link="qbhand_palm_link"/>
    <child link="qbhand_little_knuckle_link"/>
    <axis xyz="0 0 -1"/>
    <dynamics damping="0.0" friction="0.0"/>
    <limit effort="100" lower="-0.524" upper="0.524" velocity="100"/>
    <mimic joint="qbhand_synergy_joint" multiplier="-0.4"/>
  </joint>
  <link name="qbhand_little_knuckle_link">
    <inertial>
      <mass value="0.01"/>
      <origin xyz="0 0 0"/>
      <inertia ixx="1e-06" ixy="0.0" ixz="0.0" iyy="1e-06" iyz="0.0" izz="1e-06"/>
    </inertial>
    <visual>
      <origin rpy="0 0 0" xyz="0 0 0"/>
      <geometry>
        <mesh filename="package://qb_hand_description/meshes/ph_knuckle.stl" scale="0.001 0.001 0.001"/>
      </geometry>
      <material name="qbhand/knuckle"/>
    </visual>
    <collision>
      <origin rpy="0 0 0" xyz="0 0 0"/>
      <geometry>
        <mesh filename="package://qb_hand_description/meshes/ph_knuckle.stl" scale="0.001 0.001 0.001"/>
      </geometry>
    </collision>
  </link>
  <joint name="qbhand_little_proximal_joint" type="revolute">
    <origin rpy="1.57 0 1.57" xyz="0 0.009 0"/>
    <parent link="qbhand_little_knuckle_link"/>
    <child link="qbhand_little_proximal_virtual_link"/>
    <axis xyz="0 0 -1"/>
    <dynamics damping="0.0" friction="0.0"/>
    <limit effort="100" lower="0.0" upper="0.785" velocity="100"/>
    <mimic joint="qbhand_synergy_joint" multiplier="0.785"/>
  </joint>
  <link name="qbhand_little_proximal_virtual_link">
    <inertial>
      <origin rpy="0 0 0" xyz="0 0 0"/>
      <mass value="0.01"/>
      <inertia ixx="1e-08" ixy="0.0" ixz="0.0" iyy="1e-08" iyz="0.0" izz="1e-08"/>
    </inertial>
  </link>
  <joint name="qbhand_little_proximal_virtual_joint" type="revolute">
    <origin rpy="0 0 0" xyz="0.013 0 0"/>
    <parent link="qbhand_little_proximal_virtual_link"/>
    <child link="qbhand_little_proximal_link"/>
    <axis xyz="0 0 -1"/>
    <dynamics damping="0.0" friction="0.0"/>
    <limit effort="100" lower="0.0" upper="0.785" velocity="100"/>
    <mimic joint="qbhand_little_proximal_joint" multiplier="1.0"/>
  </joint>
  <link name="qbhand_little_proximal_link">
    <inertial>
      <mass value="0.01"/>
      <origin xyz="0 0 0"/>
      <inertia ixx="1e-06" ixy="0.0" ixz="0.0" iyy="1e-06" iyz="0.0" izz="1e-06"/>
    </inertial>
    <visual>
      <origin rpy="0 0 0" xyz="0 0 0"/>
      <geometry>
        <mesh filename="package://qb_hand_description/meshes/ph_small.stl" scale="0.001 0.001 0.001"/>
      </geometry>
      <material name="qbhand/proximal"/>
    </visual>
    <collision>
      <origin rpy="0 0 0" xyz="0 0 0"/>
      <geometry>
        <mesh filename="package://qb_hand_description/meshes/ph_small.stl" scale="0.001 0.001 0.001"/>
      </geometry>
    </collision>
  </link>
  <joint name="qbhand_little_middle_joint" type="revolute">
    <origin rpy="0 0 0" xyz="0.009 0 0"/>
    <parent link="qbhand_little_proximal_link"/>
    <child link="qbhand_little_middle_virtual_link"/>
    <axis xyz="0 0 -1"/>
    <dynamics damping="0.0" friction="0.0"/>
    <limit effort="100" lower="0.0" upper="0.785" velocity="100"/>
    <mimic joint="qbhand_synergy_joint" multiplier="0.785"/>
  </joint>
  <link name="qbhand_little_middle_virtual_link">
    <inertial>
      <origin rpy="0 0 0" xyz="0 0 0"/>
      <mass value="0.01"/>
      <inertia ixx="1e-08" ixy="0.0" ixz="0.0" iyy="1e-08" iyz="0.0" izz="1e-08"/>
    </inertial>
  </link>
  <joint name="qbhand_little_middle_virtual_joint" type="revolute">
    <origin rpy="0 0 0" xyz="0.013 0 0"/>
    <parent link="qbhand_little_middle_virtual_link"/>
    <child link="qbhand_little_middle_link"/>
    <axis xyz="0 0 -1"/>
    <dynamics damping="0.0" friction="0.0"/>
    <limit effort="100" lower="0.0" upper="0.785" velocity="100"/>
    <mimic joint="qbhand_little_middle_joint" multiplier="1.0"/>
  </joint>
  <link name="qbhand_little_middle_link">
    <inertial>
      <mass value="0.01"/>
      <origin xyz="0 0 0"/>
      <inertia ixx="1e-06" ixy="0.0" ixz="0.0" iyy="1e-06" iyz="0.0" izz="1e-06"/>
    </inertial>
    <visual>
      <origin rpy="0 0 0" xyz="0 0 0"/>
      <geometry>
        <mesh filename="package://qb_hand_description/meshes/ph_small.stl" scale="0.001 0.001 0.001"/>
      </geometry>
      <material name="qbhand/middle"/>
    </visual>
    <collision>
      <origin rpy="0 0 0" xyz="0 0 0"/>
      <geometry>
        <mesh filename="package://qb_hand_description/meshes/ph_small.stl" scale="0.001 0.001 0.001"/>
      </geometry>
    </collision>
  </link>
  <joint name="qbhand_little_distal_joint" type="revolute">
    <origin rpy="0 0 0" xyz="0.009 0 0"/>
    <parent link="qbhand_little_middle_link"/>
    <child link="qbhand_little_distal_virtual_link"/>
    <axis xyz="0 0 -1"/>
    <dynamics damping="0.0" friction="0.0"/>
    <limit effort="100" lower="0.0" upper="0.785" velocity="100"/>
    <mimic joint="qbhand_synergy_joint" multiplier="0.785"/>
  </joint>
  <link name="qbhand_little_distal_virtual_link">
    <inertial>
      <origin rpy="0 0 0" xyz="0 0 0"/>
      <mass value="0.01"/>
      <inertia ixx="1e-08" ixy="0.0" ixz="0.0" iyy="1e-08" iyz="0.0" izz="1e-08"/>
    </inertial>
  </link>
  <joint name="qbhand_little_distal_virtual_joint" type="revolute">
    <origin rpy="0 0 0" xyz="0.013 0 0"/>
    <parent link="qbhand_little_distal_virtual_link"/>
    <child link="qbhand_little_distal_link"/>
    <axis xyz="0 0 -1"/>
    <dynamics damping="0.0" friction="0.0"/>
    <limit effort="100" lower="0.0" upper="0.785" velocity="100"/>
    <mimic joint="qbhand_little_distal_joint" multiplier="1.0"/>
  </joint>
  <link name="qbhand_little_distal_link">
    <inertial>
      <mass value="0.01"/>
      <origin xyz="0 0 0"/>
      <inertia ixx="1e-06" ixy="0.0" ixz="0.0" iyy="1e-06" iyz="0.0" izz="1e-06"/>
    </inertial>
    <visual>
      <origin rpy="0 0 0" xyz="0 0 0"/>
      <geometry>
        <mesh filename="package://qb_hand_description/meshes/ph_distal.stl" scale="0.001 0.001 0.001"/>
      </geometry>
      <material name="qbhand/distal"/>
    </visual>
    <collision>
      <origin rpy="0 0 0" xyz="0 0 0"/>
      <geometry>
        <mesh filename="package://qb_hand_description/meshes/ph_distal.stl" scale="0.001 0.001 0.001"/>
      </geometry>
    </collision>
  </link>
  <joint name="world_to_robot" type="fixed">
    <parent link="world"/>
    <child link="base_link"/>
    <origin rpy="0.0 0.0 0.0" xyz="0 0 0.5"/>
  </joint>
  <!-- 	
  <joint name="world_to_camera" type="fixed">
    <parent link="world" />
    <child link = "camera_frame" />
    <origin xyz="0.0 0.0 0" rpy="0.0 1.571 0.0" />
  </joint>
  <joint name="table_to_robot" type="fixed">
    <parent link="table" />
    <child link = "base_link" />
    <origin xyz="0.0 0.0 0" rpy="0.0 0.0 0.0" />
  </joint> 
-->
  <!-- 	
  <joint name="ur5_to_qb" type="revolute">
    <axis xyz="0 0 1"/>
    <limit effort="1000.0" lower="-6.28" upper="6.28" velocity="0.5"/>
    <parent link="ee_link" />
    <child link = "qbhand1_base_link" />
    <origin xyz="0.0 0.0 0" rpy="0.0 0.0 0.0" />
  </joint> 
-->
</robot>
